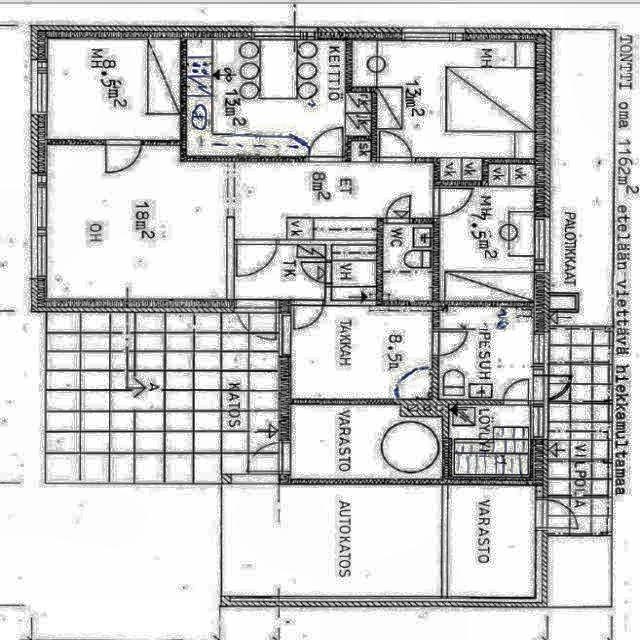room: (46, 146, 433, 303), (350, 40, 535, 182), (187, 40, 372, 157), (47, 39, 179, 139), (440, 165, 534, 302), (291, 307, 431, 398), (291, 405, 442, 479), (438, 306, 535, 402), (449, 404, 530, 475), (236, 246, 325, 298), (383, 223, 432, 300), (331, 244, 375, 300)
